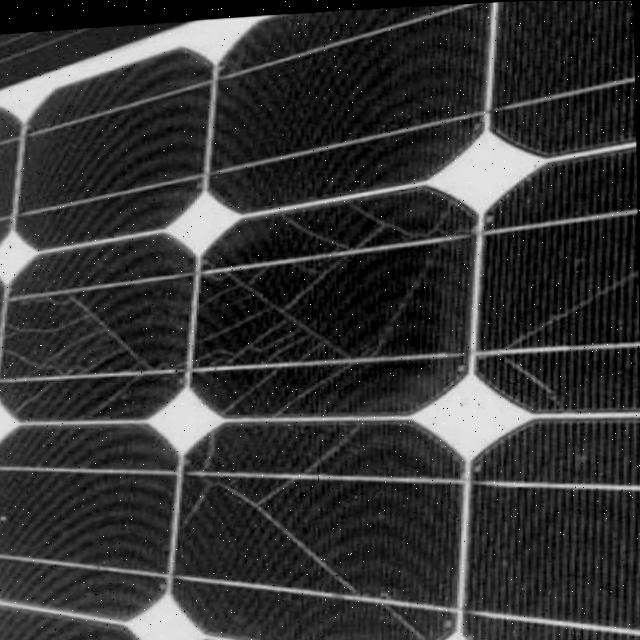Anomaly Solar Panel: (0, 0, 640, 640)
Structural Damage: (182, 419, 360, 597), (0, 255, 156, 428), (192, 259, 354, 358), (500, 259, 639, 350), (342, 173, 454, 240), (271, 352, 353, 411), (280, 244, 349, 306), (500, 349, 567, 402), (280, 207, 351, 248), (218, 361, 277, 409), (382, 595, 428, 640), (11, 374, 51, 407), (0, 335, 38, 360), (354, 218, 385, 245)
